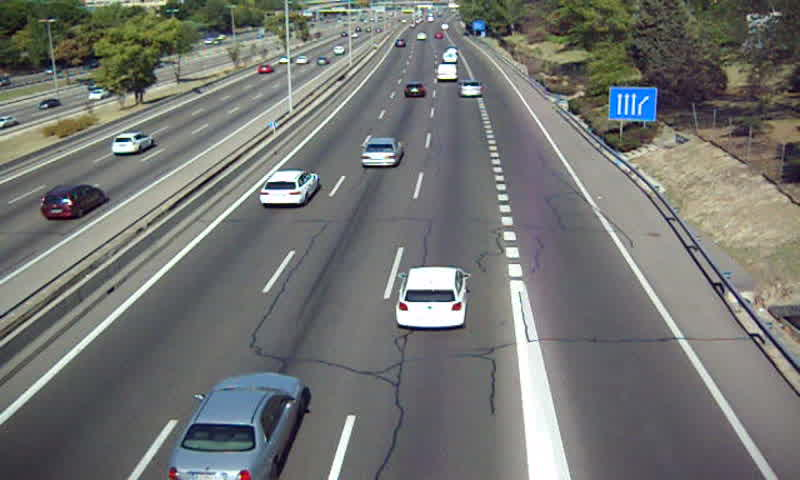car: (167, 373, 306, 480), (396, 268, 469, 329), (258, 171, 319, 206), (361, 137, 403, 168), (459, 80, 484, 99), (403, 82, 428, 99)
van: (436, 63, 458, 82), (444, 50, 458, 63)
